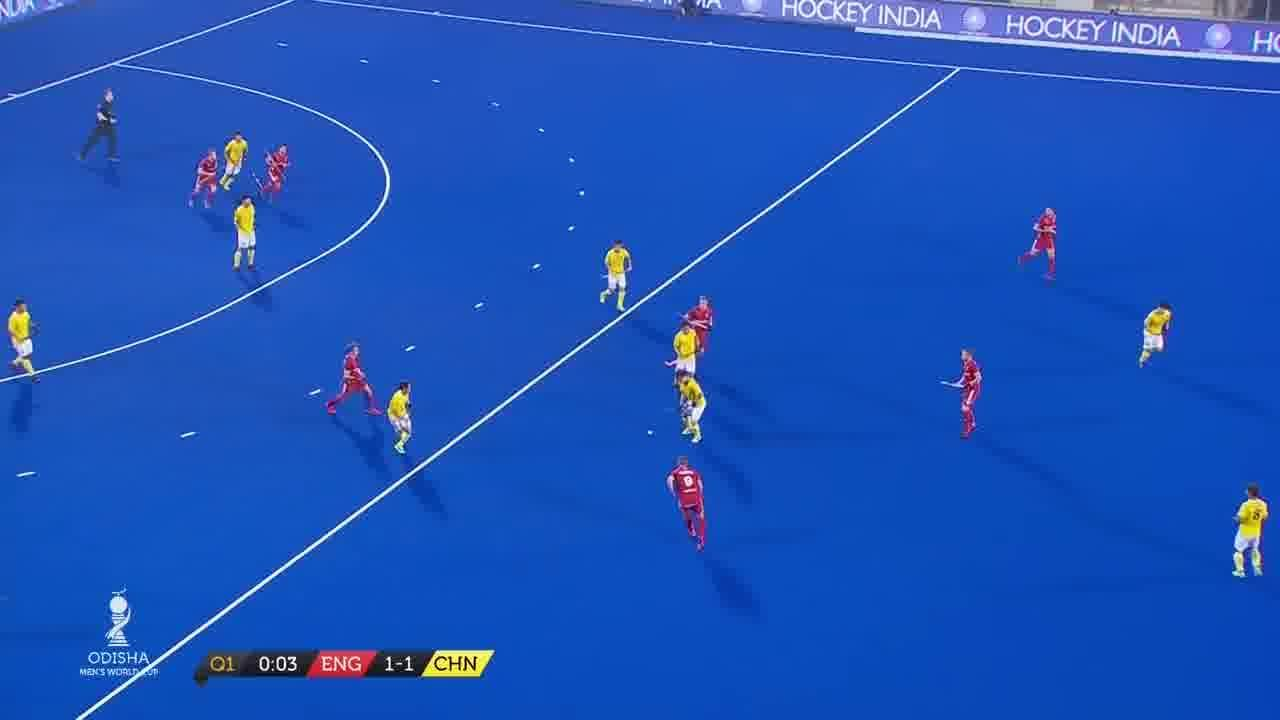ball: (643, 428, 659, 446)
